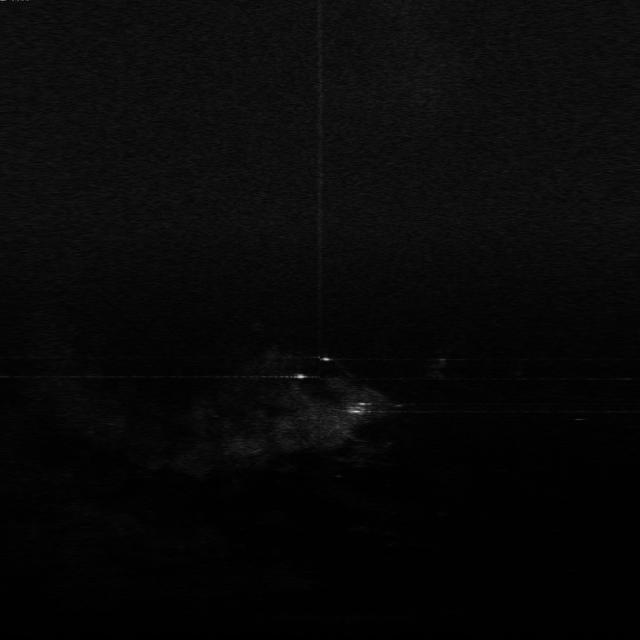rov: (344, 398, 374, 418)
